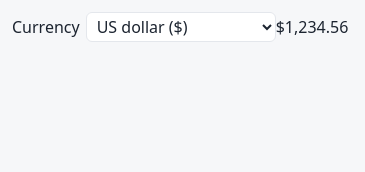
currency setting › changes the currency amounts are shown in
The width and height of the screenshot is (365, 172).
Select "Euro (€)" in the dropdown labelled "Currency" at (181, 27), box [86,12,276,42]
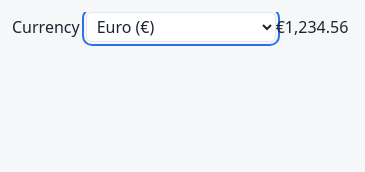
Expected: the text "€1,234.56" is shown, [276,16,348,38]
